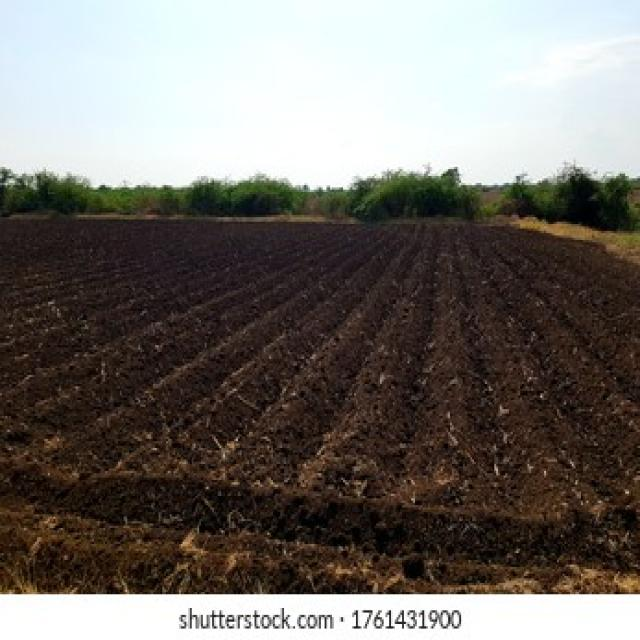Black Soil: (28, 228, 618, 554)
